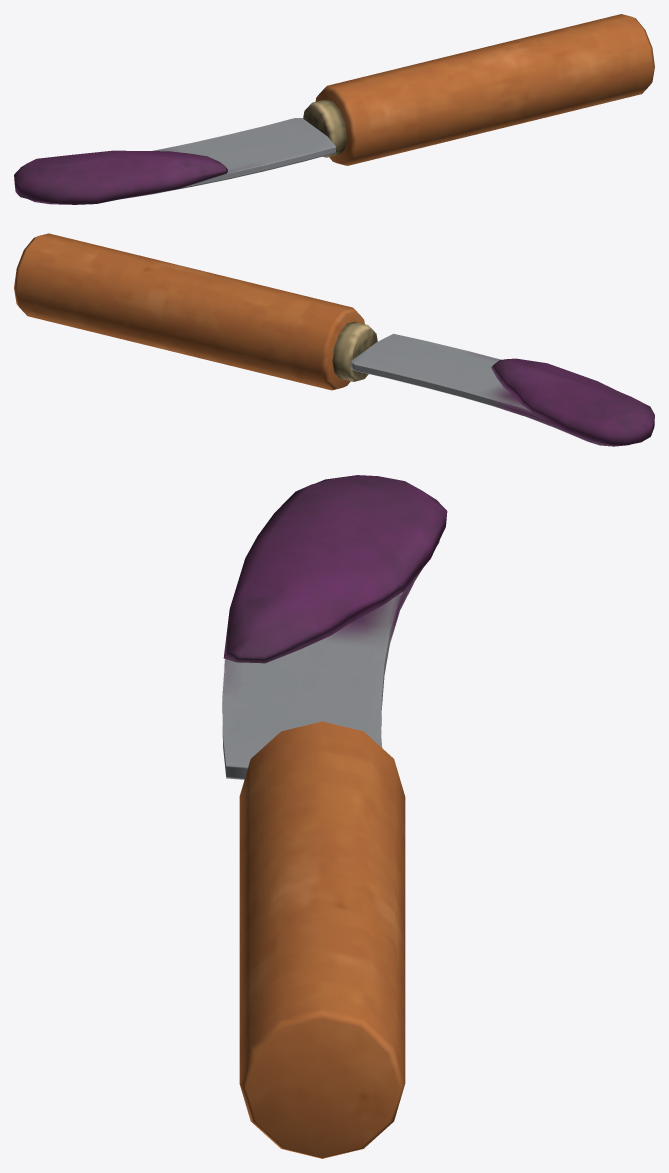
The model's file is pi_knife01_berryjam.gltf.
3 views of the same model, one above another, from view 1: azimuth 30°, elevation 25°; view 2: azimuth 150°, elevation 25°; view 3: azimuth 270°, elevation 25° (orthographic). The views are drawn at different scales.
Parts seen in each view (by area): view 1: pi_knife01_mesh1_shape:pi_knife01_body01, pi_knife01_berryjam_01_shape:pi_knife01_berryjam_main_tra; view 2: pi_knife01_mesh1_shape:pi_knife01_body01, pi_knife01_berryjam_01_shape:pi_knife01_berryjam_main_tra, pi_knife01_berryjam_02_shape:pi_knife01_berryjam_main_tra; view 3: pi_knife01_mesh1_shape:pi_knife01_body01, pi_knife01_berryjam_01_shape:pi_knife01_berryjam_main_tra, pi_knife01_berryjam_02_shape:pi_knife01_berryjam_main_tra.
Part boxes in pixels (x1,y1,x2,y2): pi_knife01_mesh1_shape:pi_knife01_body01: [141, 14, 654, 195]; pi_knife01_berryjam_01_shape:pi_knife01_berryjam_main_tra: [14, 150, 227, 204]; pi_knife01_mesh1_shape:pi_knife01_body01: [14, 233, 611, 445]; pi_knife01_berryjam_01_shape:pi_knife01_berryjam_main_tra: [491, 358, 654, 445]; pi_knife01_berryjam_02_shape:pi_knife01_berryjam_main_tra: [481, 355, 630, 446]; pi_knife01_mesh1_shape:pi_knife01_body01: [222, 571, 420, 1158]; pi_knife01_berryjam_01_shape:pi_knife01_berryjam_main_tra: [223, 475, 447, 663]; pi_knife01_berryjam_02_shape:pi_knife01_berryjam_main_tra: [224, 540, 439, 682].
Size of the model in its own units: 0.1991 by 0.0235 by 0.0321.
2 materials, 2 textured.
